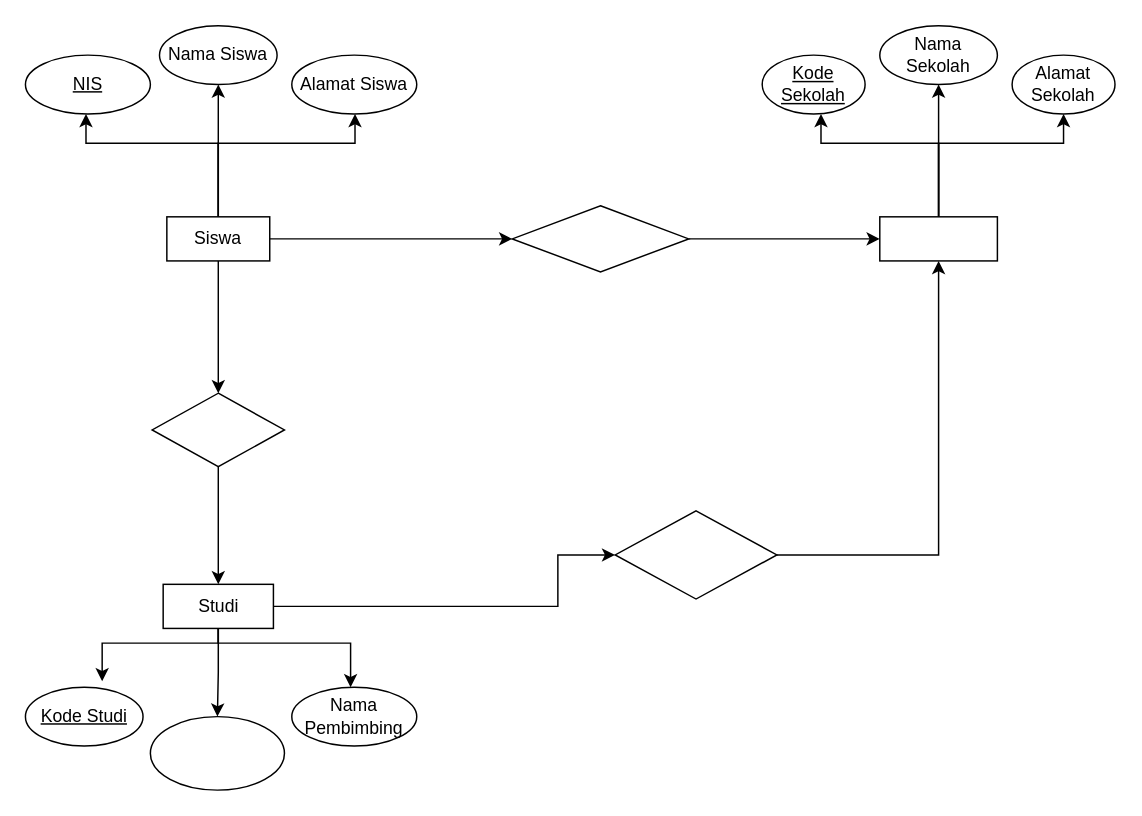
This 1142x816 diagram has some shape labels left out. Here are the shapes that lost their labels. From the top down, the centre of each, then its label:
At point 600,238: "Belajar".
At point 937,238: "Sekolah".
At point 217,429: "Mengambil".
At point 695,554: "Digunakan di".
At point 216,752: "Nama Bidang Studi".
